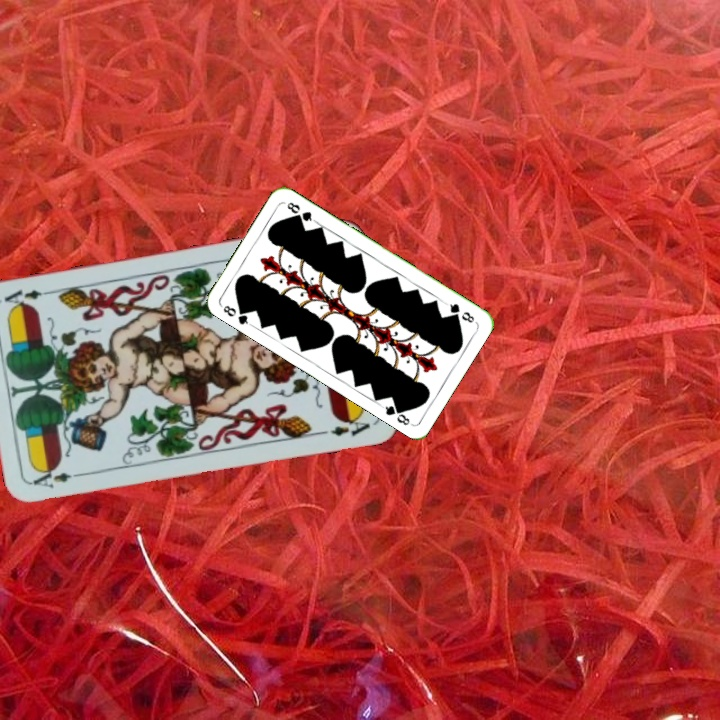EA: (29, 465, 88, 491)
G8: (218, 301, 254, 328), (442, 299, 477, 326)
